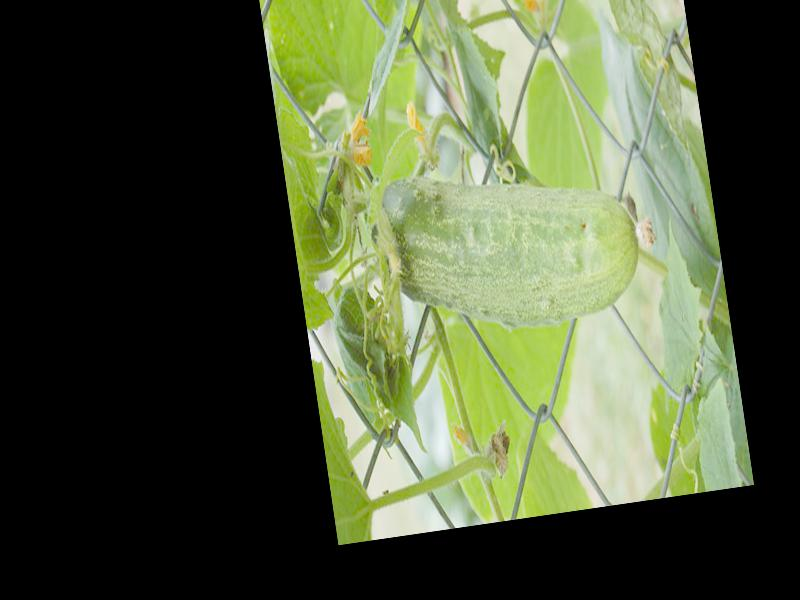Cucumber: (366, 148, 662, 343)
